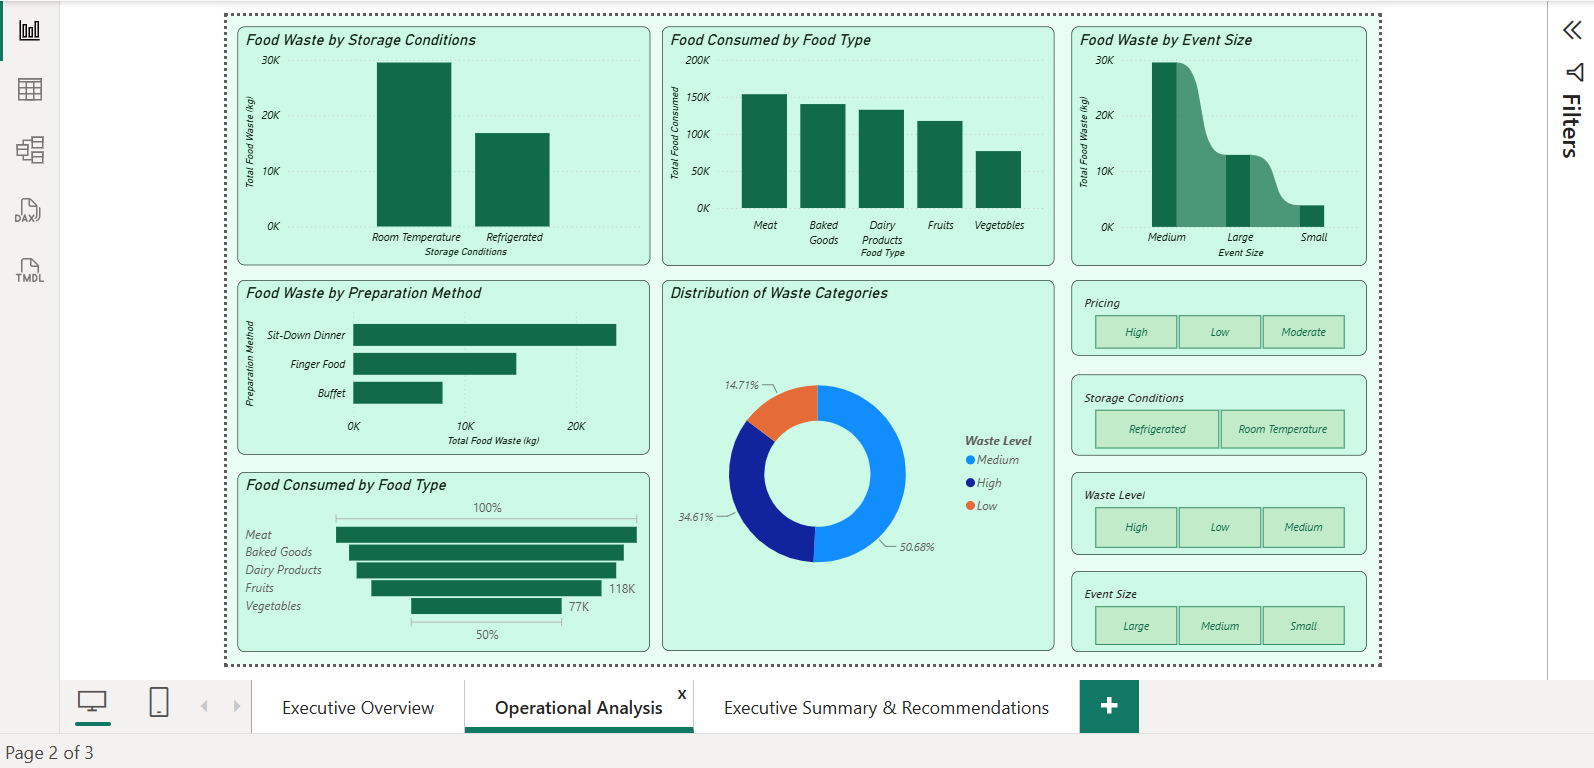

The page's visual inventory and layout, read from the dashboard file:
{"tool":"powerbi","page":{"name":"Operational Analysis","canvas":[1280,720],"ordinal":1},"visuals":[{"type":"clusteredColumnChart","title":"Food Waste by Storage Conditions","fields":{"Category":["public food_waste.storage_conditions"],"Y":["Sum(public food_waste.food_wastage_amount)"]},"box":[11.1,11.1,458.9,265.6],"z":0},{"type":"barChart","title":"Food Waste by Preparation Method","fields":{"Y":["Sum(public food_waste.food_wastage_amount)"],"Category":["public food_waste.preparation_method"]},"box":[12,294,458,194],"z":1000},{"type":"donutChart","title":"Distribution of Waste Categories","fields":{"Category":["public food_waste.waste_category"],"Y":["CountNonNull(public food_waste.food_type)"]},"box":[484,294,436,412],"z":2000},{"type":"ribbonChart","title":"Food Waste by Event Size","fields":{"Category":["public food_waste.event_size"],"Y":["Sum(public food_waste.food_wastage_amount)"]},"box":[938,12,328,266],"z":3000},{"type":"funnel","title":"Food Consumed by Food Type","fields":{"Category":["public food_waste.food_type"],"Y":["public food_waste.Total Food Consumed"]},"box":[12,506,458,200],"z":4000},{"type":"lineStackedColumnComboChart","title":"Food Consumed by Food Type","fields":{"Category":["public food_waste.food_type"],"Y":["Sum(public food_waste.food_consumed)"]},"box":[484,12,436,266],"z":5000},{"type":"slicer","fields":{"Values":["public food_waste.pricing"]},"box":[938,294,328,84],"z":6000},{"type":"slicer","fields":{"Values":["public food_waste.storage_conditions"]},"box":[938,398,328,90],"z":7000},{"type":"slicer","fields":{"Values":["public food_waste.waste_category"]},"box":[938,506,328,92],"z":8000},{"type":"slicer","fields":{"Values":["public food_waste.event_size"]},"box":[938,616,328,90],"z":9000}]}

Visuals, with their boxes on the page's 1280x720 design canvas (x1, y1, x2, y2). These are canvas units, not pixel positions in the 1594x768 screenshot, which may show the page scaled, cropped or inside an application window:
"Food Waste by Storage Conditions" clusteredColumnChart: box(11, 11, 470, 277)
"Food Waste by Preparation Method" barChart: box(12, 294, 470, 488)
"Distribution of Waste Categories" donutChart: box(484, 294, 920, 706)
"Food Waste by Event Size" ribbonChart: box(938, 12, 1266, 278)
"Food Consumed by Food Type" funnel: box(12, 506, 470, 706)
"Food Consumed by Food Type" lineStackedColumnComboChart: box(484, 12, 920, 278)
slicer - public food_waste.pricing: box(938, 294, 1266, 378)
slicer - public food_waste.storage_conditions: box(938, 398, 1266, 488)
slicer - public food_waste.waste_category: box(938, 506, 1266, 598)
slicer - public food_waste.event_size: box(938, 616, 1266, 706)
